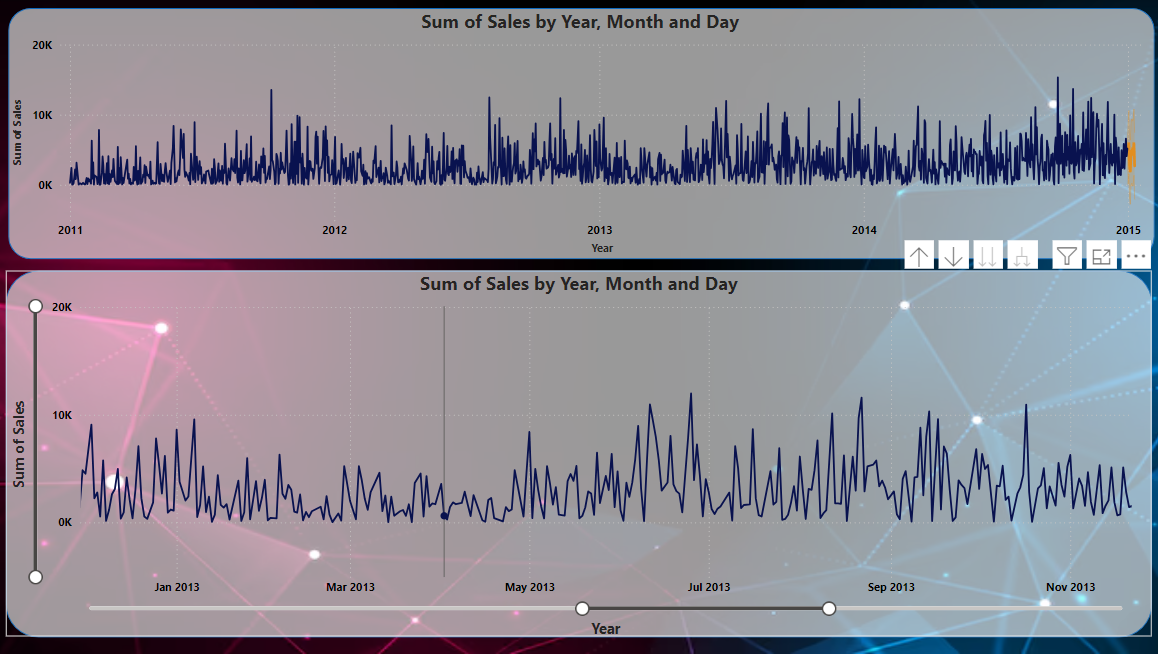

Layout of this report page (visuals, bound fields, positions):
{"tool":"powerbi","page":{"name":"Page 2","canvas":[1280,720],"ordinal":1},"visuals":[{"type":"shape","box":[12.9,11.4,1258.6,275.7],"z":0},{"type":"shape","box":[10,298.6,1258.6,402.9],"z":1000},{"type":"lineChart","fields":{"Y":["Sum(Orders.Sales)"],"Category":["Orders.Order Date.Variation.Date Hierarchy.Year","Orders.Order Date.Variation.Date Hierarchy.Month","Orders.Order Date.Variation.Date Hierarchy.Day"]},"box":[12.9,11.4,1255.7,275.7],"z":2000},{"type":"lineChart","fields":{"Y":["Sum(Orders.Sales)"],"Category":["Orders.Order Date.Variation.Date Hierarchy.Year","Orders.Order Date.Variation.Date Hierarchy.Month","Orders.Order Date.Variation.Date Hierarchy.Day"]},"box":[10,298.6,1258.6,402.9],"z":3000}]}

Visuals, with their boxes in screenshot pixels (x1, y1, x2, y2), scaled from the page's 1280x720 canvas onto the 1158x654 screenshot:
shape: <box>12,10,1150,261</box>
shape: <box>9,271,1148,637</box>
lineChart - Sum(Orders.Sales) x Orders.Order Date.Variation.Date Hierarchy.Year: <box>12,10,1148,261</box>
lineChart - Sum(Orders.Sales) x Orders.Order Date.Variation.Date Hierarchy.Year: <box>9,271,1148,637</box>
